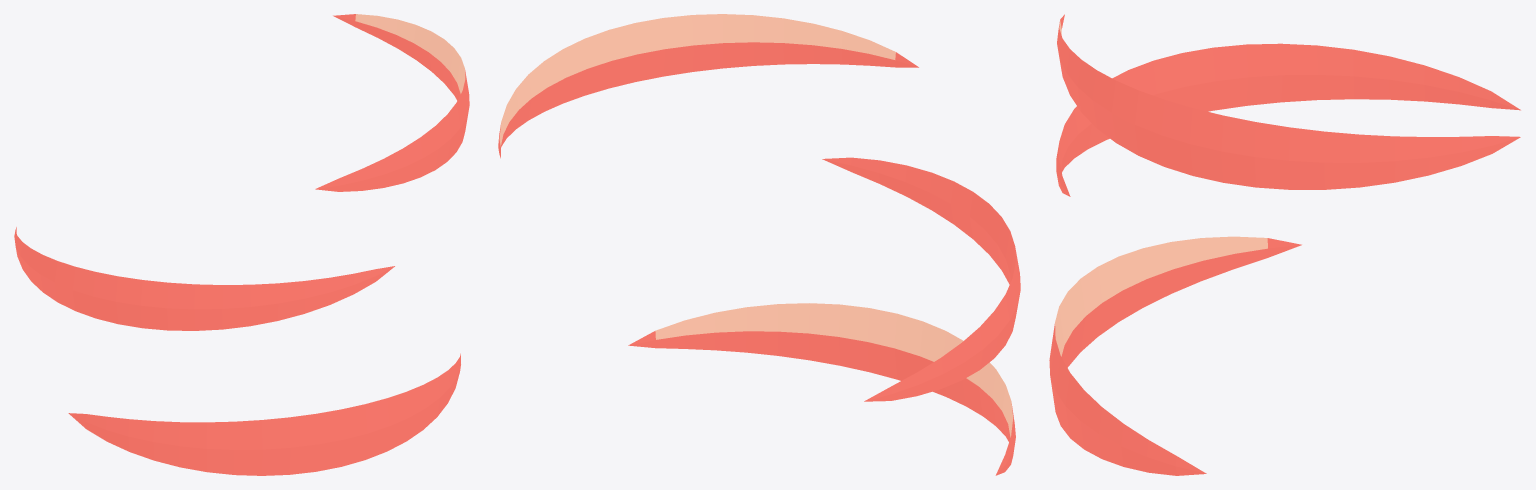
The model's file is fx-dash.glb.
The picture shows the model from 3 angles, left to right: view 1: azimuth 30°, elevation 25°; view 2: azimuth 150°, elevation 25°; view 3: azimuth 270°, elevation 25°; orthographic projection. The views are drawn at different scales.
Visible parts, largest first — view 1: dash; view 2: dash; view 3: dash.
Boxes of the visible parts, x1=… form: dash: x1=14, y1=14, x2=469, y2=475; dash: x1=498, y1=14, x2=1020, y2=475; dash: x1=1049, y1=14, x2=1520, y2=475.
Size of the model in its own units: 1.29 by 0.95 by 1.01.
